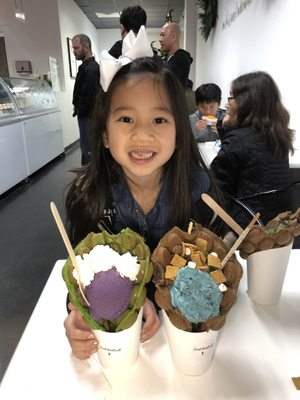pizza: (247, 247, 292, 306)
